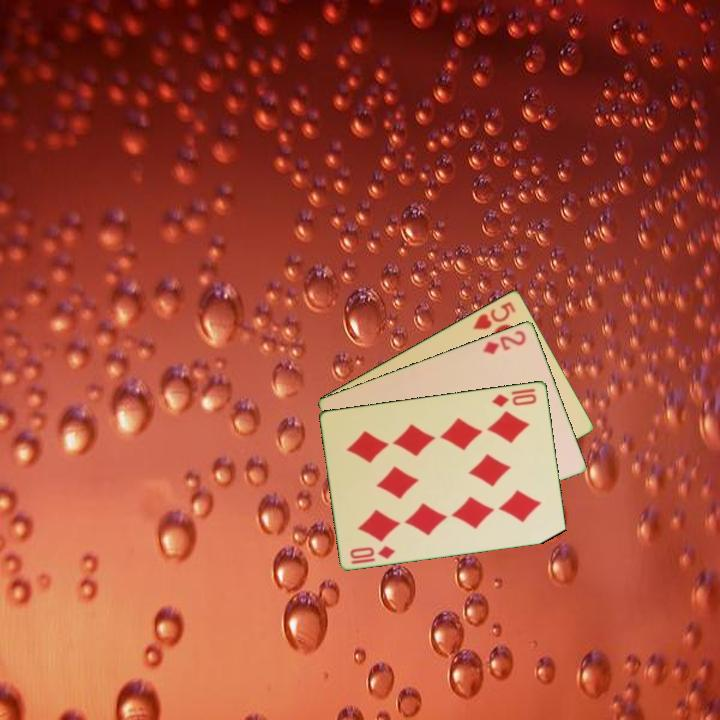10d: (346, 541, 398, 567), (489, 384, 540, 410)
2d: (479, 326, 529, 357)
5h: (469, 298, 519, 332)
